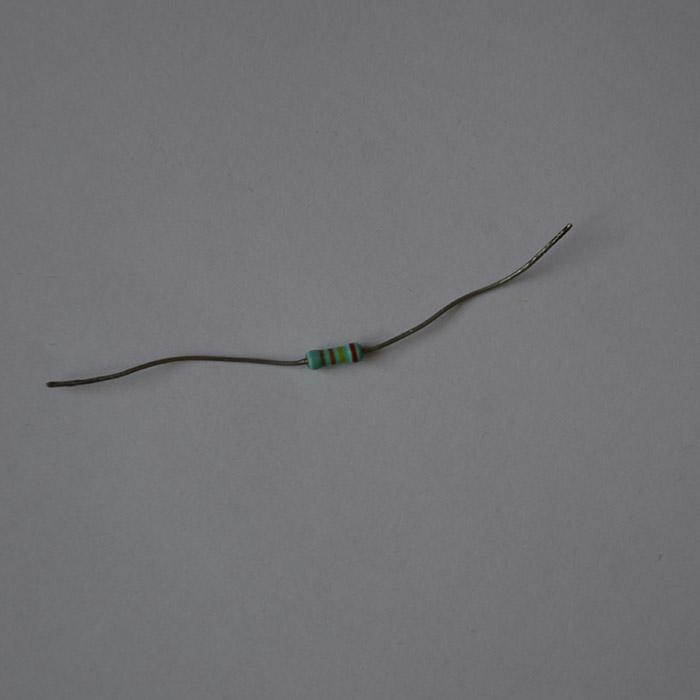resistor: (305, 342, 362, 369)
